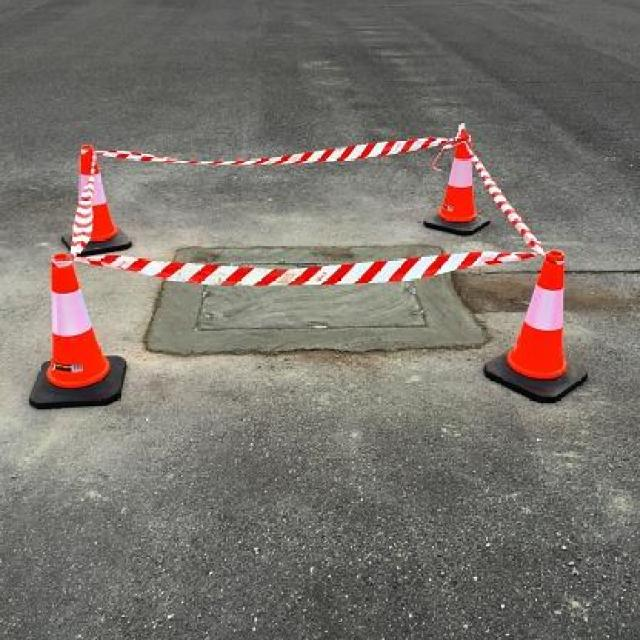Cone: (486, 254, 591, 401), (29, 256, 120, 404), (60, 143, 134, 260), (431, 138, 495, 237)
